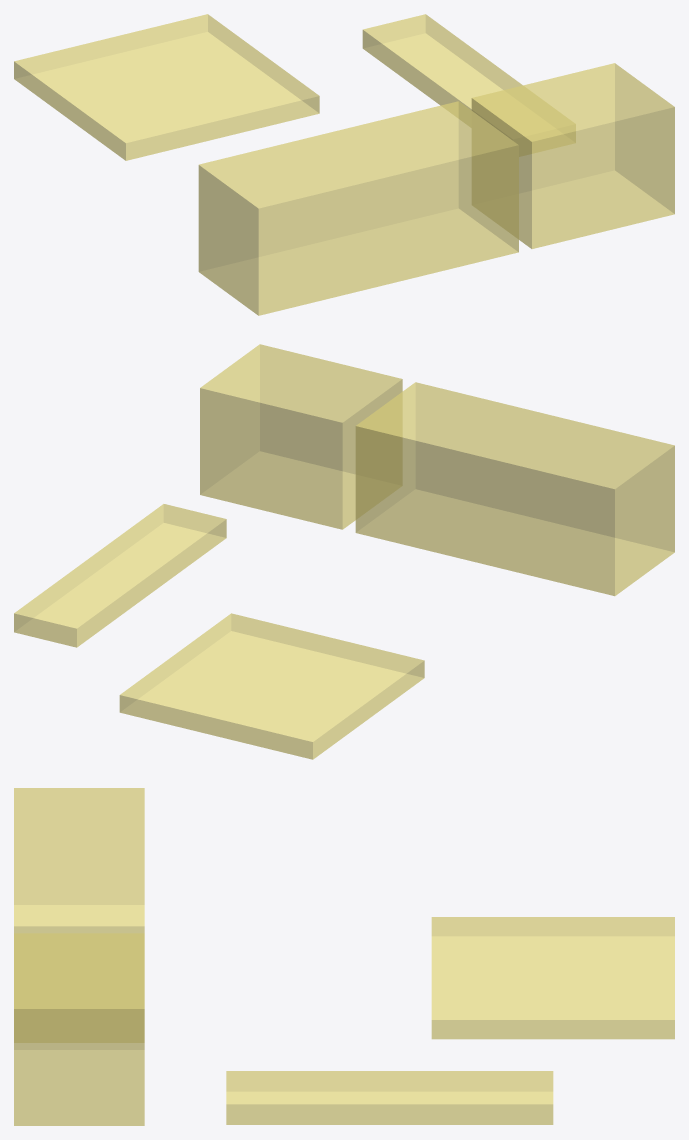
Rendered from Workstation_Setup.obj.
3 views of the same model, one above another, from view 1: azimuth 30°, elevation 25°; view 2: azimuth 150°, elevation 25°; view 3: azimuth 270°, elevation 25° (orthographic). The views are drawn at different scales.
Size of the model in its own units: 3200 by 788 by 4045.
